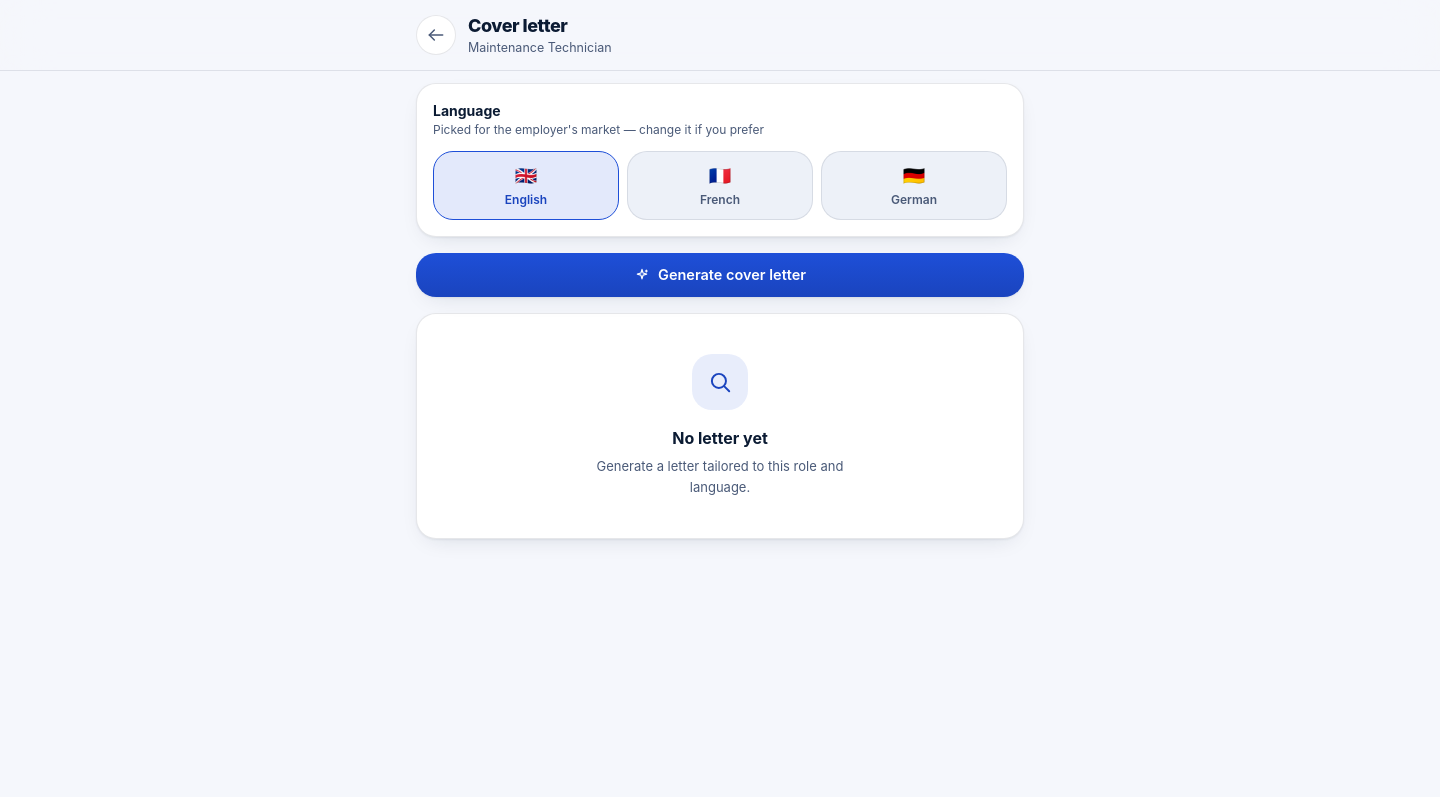
Test: CoverLetterScreen › generates a grounded letter from the CV and the posting
Click the button "Generate cover letter". click: (720, 275)
box: [416,253,1024,297]
(page scrolled)
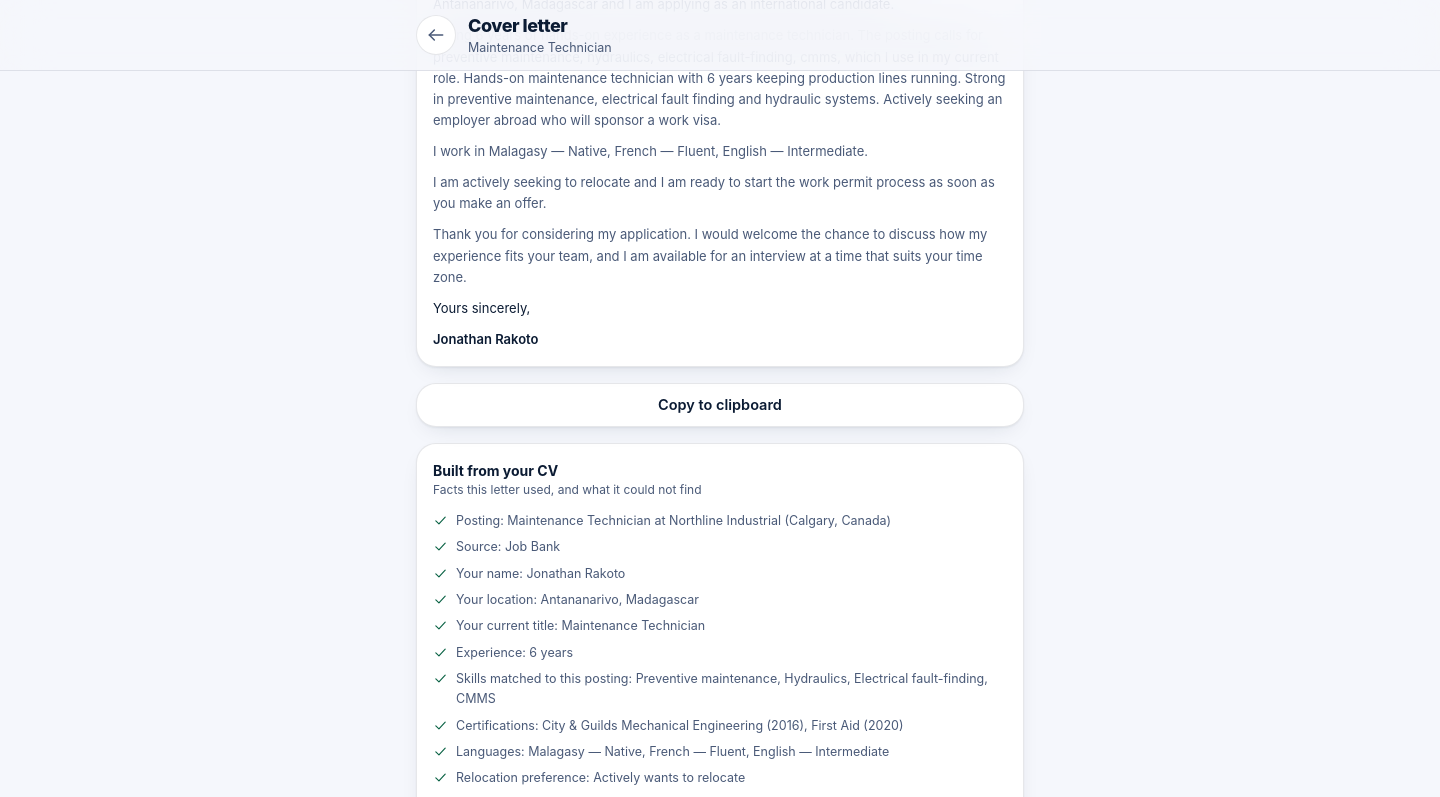
Expected: the heading "Built from your CV" is shown, [433,462,558,479]
Expected: the text "Copy to clipboard" is shown, [658,394,782,416]
